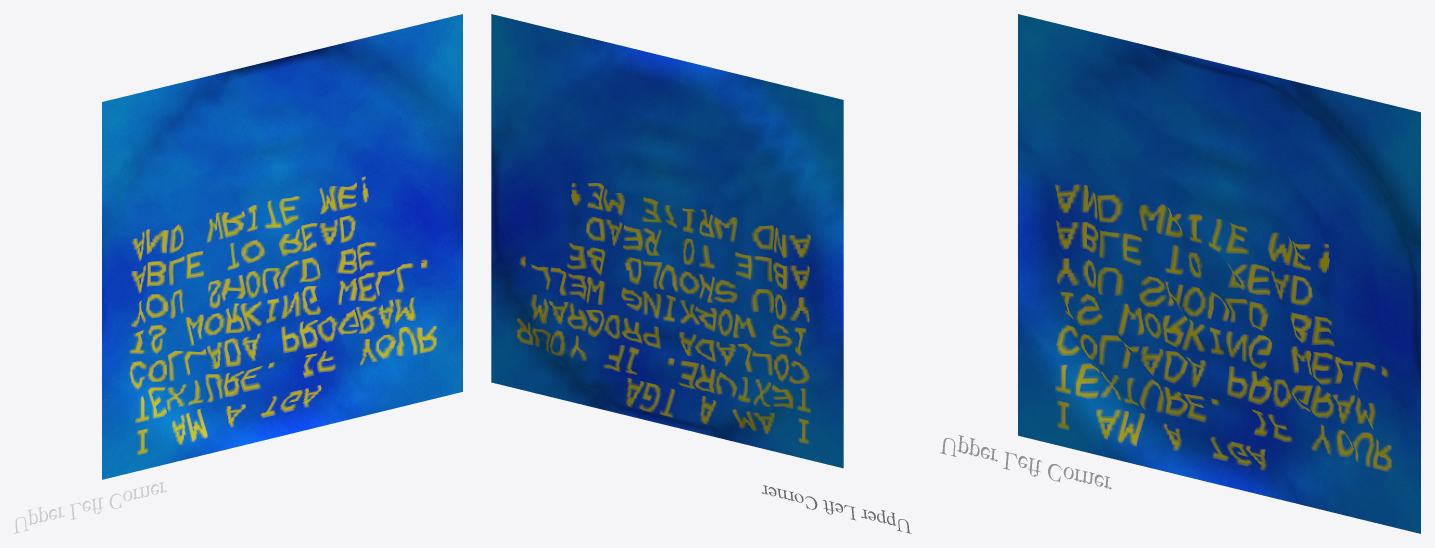
File: simple_010_TextureFormats-TGA_03.dae
The picture shows the model from 3 angles, left to right: view 1: azimuth 30°, elevation 25°; view 2: azimuth 150°, elevation 25°; view 3: azimuth 330°, elevation 25°; orthographic projection. The views are drawn at different scales.
Parts seen in each view (by area): view 1: pPlane1; view 2: pPlane1; view 3: pPlane1.
Boxes of the visible parts, <box> form: pPlane1: <box>102,14,462,479</box>; pPlane1: <box>491,14,843,468</box>; pPlane1: <box>1018,14,1420,533</box>.
Bounding box in the file's own units: 18.83 × 0.7879 × 17.17.
Materials: 2 (1 with a texture image).
